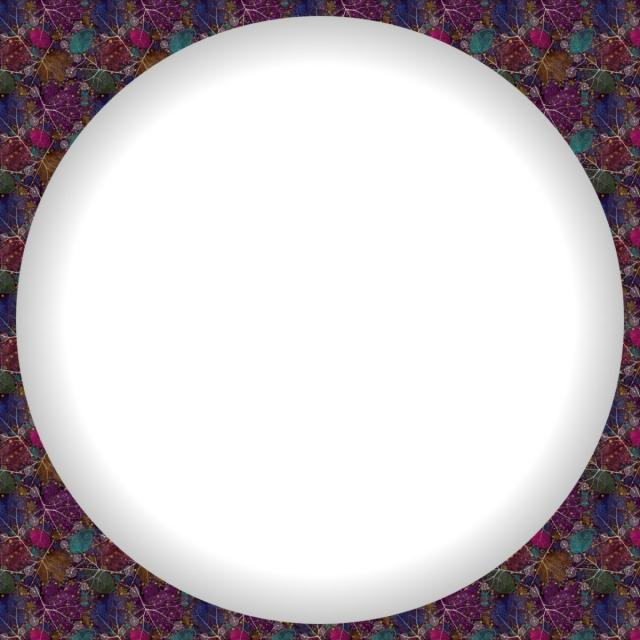Circle: (13, 12, 632, 630)
